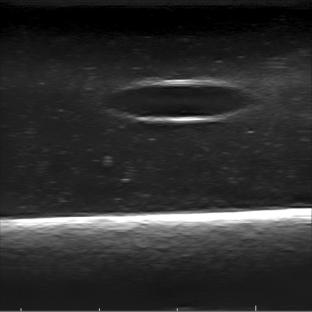vessel: (105, 79, 253, 123)
